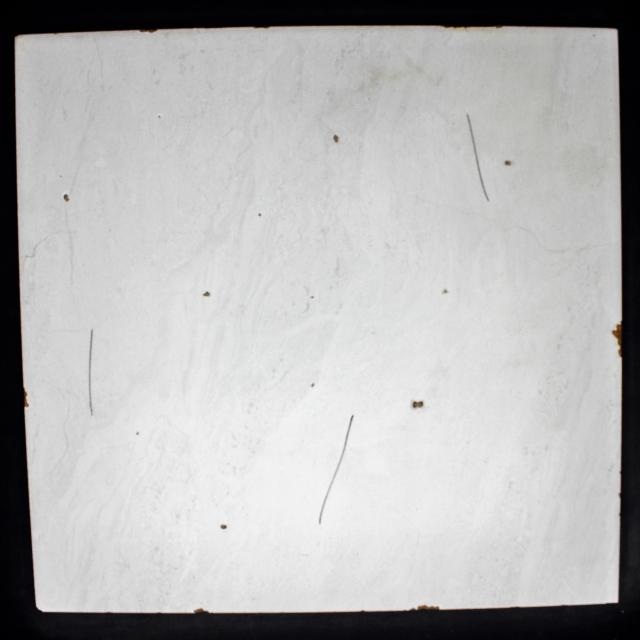edge-chipping: (610, 320, 623, 358), (134, 27, 160, 35), (416, 603, 441, 611), (23, 386, 30, 409), (193, 607, 210, 614), (251, 25, 274, 30), (409, 607, 416, 611)
hole: (410, 399, 425, 410), (63, 191, 71, 203), (332, 133, 340, 144), (503, 158, 512, 167), (202, 290, 211, 298), (219, 523, 229, 530), (441, 288, 450, 295), (310, 382, 316, 388), (257, 212, 263, 217), (134, 431, 140, 436), (157, 114, 161, 120)
line: (463, 110, 495, 207), (318, 468, 338, 526), (337, 413, 355, 467), (86, 327, 95, 418)
